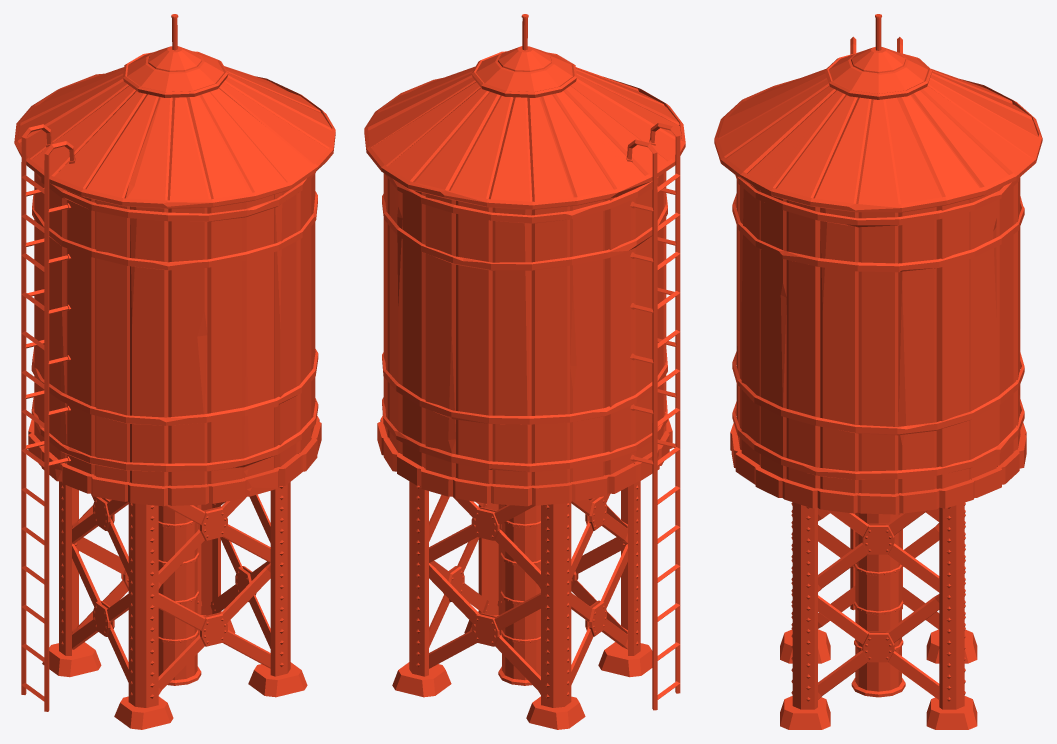
Rendered from SM_Water_Tower_City.fbx.
The picture shows the model from 3 angles, left to right: view 1: azimuth 30°, elevation 25°; view 2: azimuth 150°, elevation 25°; view 3: azimuth 270°, elevation 25°; orthographic projection.
Parts seen in each view (by area): view 1: SM_Water_Tower_City; view 2: SM_Water_Tower_City; view 3: SM_Water_Tower_City.
Part boxes in pixels (x1,y1,x2,y2): SM_Water_Tower_City: [14, 14, 335, 729]; SM_Water_Tower_City: [364, 14, 685, 729]; SM_Water_Tower_City: [714, 14, 1042, 729].
Size of the model in its own units: 3.25 by 7.27 by 3.23.
